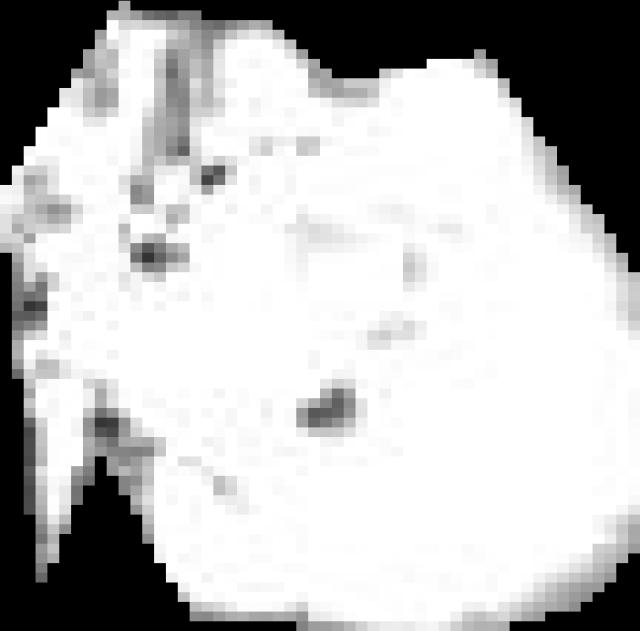tumor_moderate_chance: (0, 1, 640, 631)
